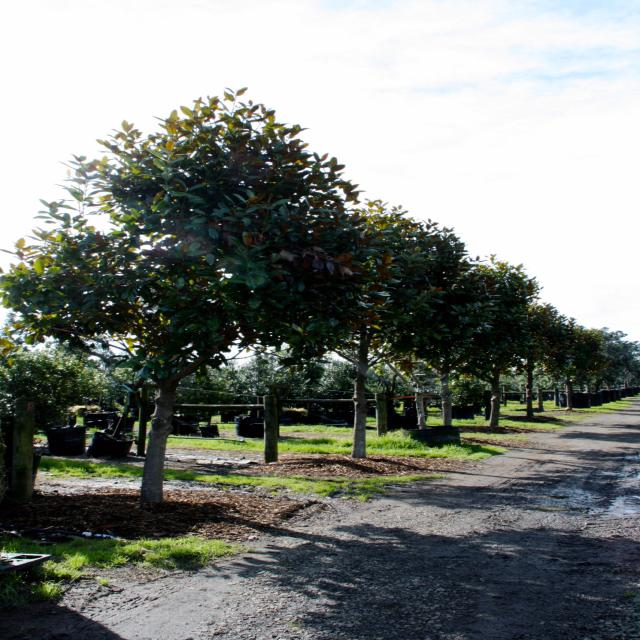Magnolia grandiflora: (0, 86, 382, 505)
